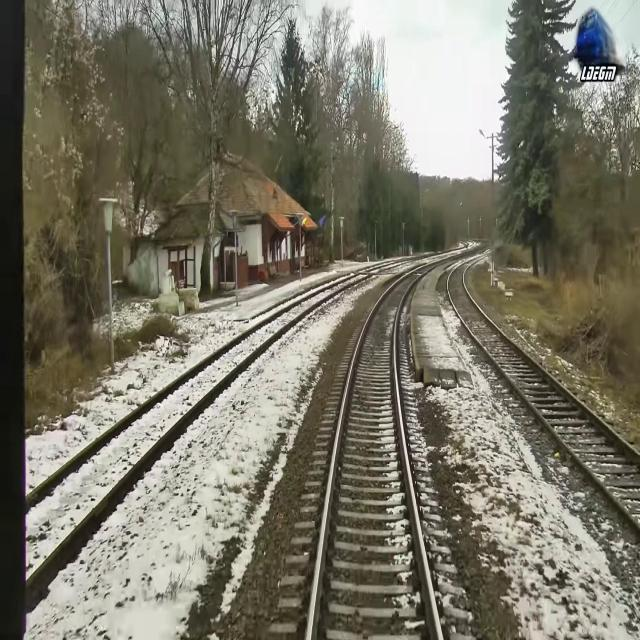rail-track: (0, 260, 410, 606), (448, 256, 640, 522), (310, 260, 443, 639)
